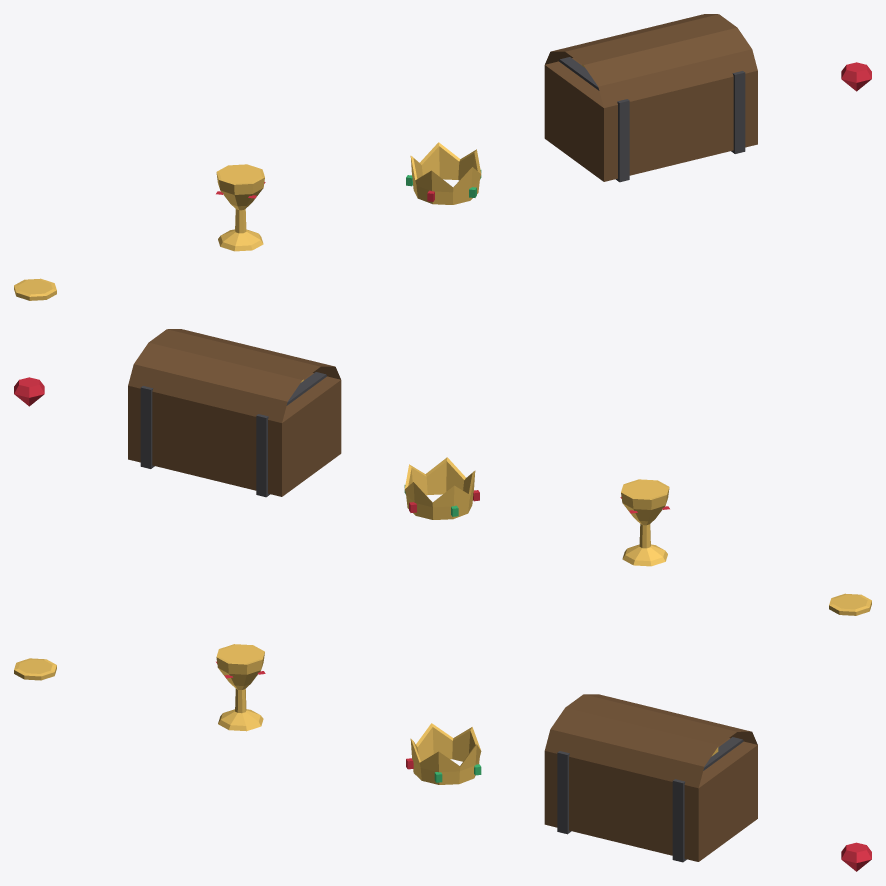
Rendered from treasure.glb.
3 renders of one model, top to bottom at view 1: azimuth 30°, elevation 25°; view 2: azimuth 150°, elevation 25°; view 3: azimuth 330°, elevation 25°, orthographic.
Visible parts, largest first — view 1: Treasure_Chest, Treasure_Crown, Treasure_Goblet, Treasure_Coin, Treasure_Gem; view 2: Treasure_Chest, Treasure_Crown, Treasure_Goblet, Treasure_Coin, Treasure_Gem; view 3: Treasure_Chest, Treasure_Crown, Treasure_Goblet, Treasure_Coin, Treasure_Gem.
Boxes of the visible parts, x1,y1,x2,y2 form: Treasure_Chest: (544,14,757,182); Treasure_Crown: (406,142,481,204); Treasure_Goblet: (216,164,265,251); Treasure_Coin: (14,278,56,300); Treasure_Gem: (841,62,871,91); Treasure_Chest: (128,329,341,497); Treasure_Crown: (404,457,479,519); Treasure_Goblet: (620,479,669,566); Treasure_Coin: (829,593,871,615); Treasure_Gem: (14,377,44,406); Treasure_Chest: (544,694,757,862); Treasure_Crown: (406,723,481,784); Treasure_Goblet: (216,644,265,731); Treasure_Coin: (14,658,56,680); Treasure_Gem: (841,842,871,871).
Bounding box in the file's own units: 6.67 × 0.7792 × 0.84.
